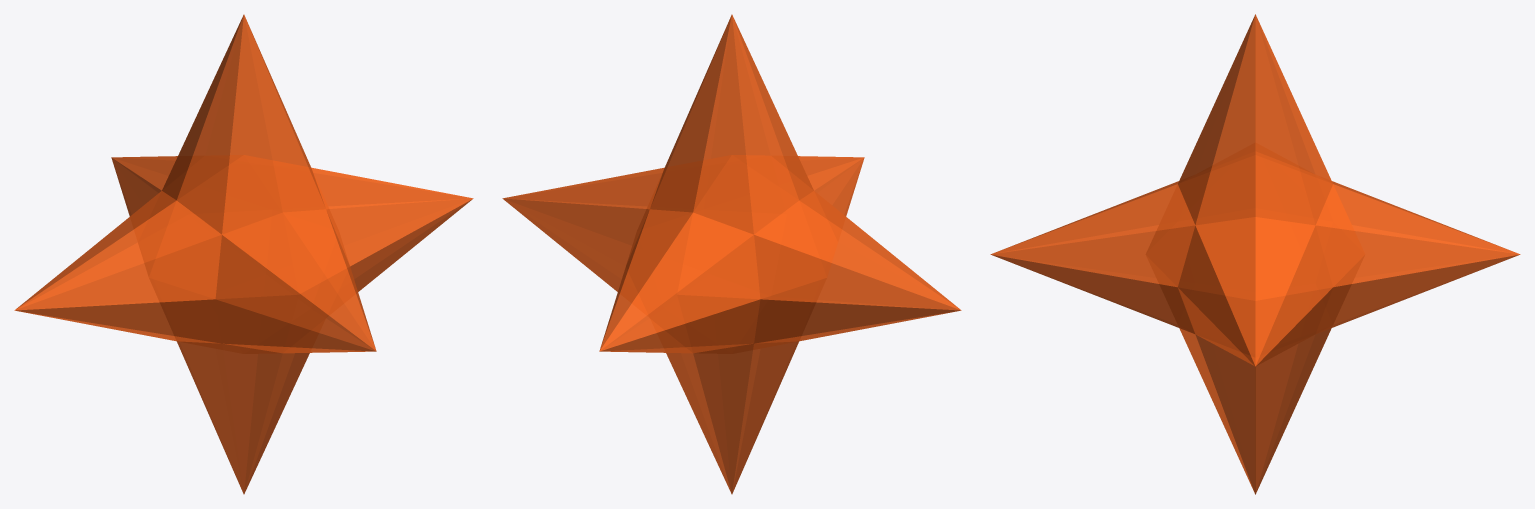
File: SmallHexacronicIcositetrahedron.obj
The picture shows the model from 3 angles, left to right: view 1: azimuth 30°, elevation 25°; view 2: azimuth 150°, elevation 25°; view 3: azimuth 270°, elevation 25°; orthographic projection.
Size of the model in its own units: 6.83 by 6.83 by 6.83.
